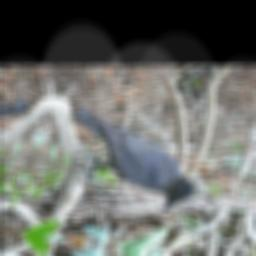Crow: (34, 105, 222, 215)
